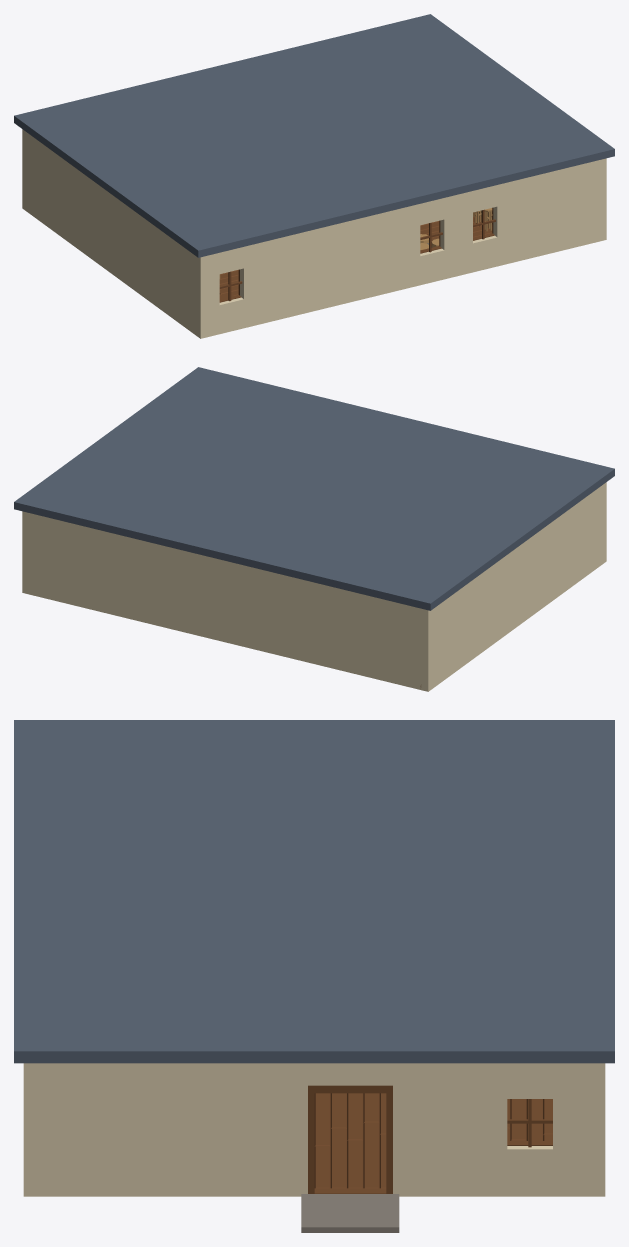
The model's file is tavern_interior.glb.
3 views of the same model, one above another, from view 1: azimuth 30°, elevation 25°; view 2: azimuth 150°, elevation 25°; view 3: azimuth 270°, elevation 25° (orthographic). The views are drawn at different scales.
Parts seen in each view (by area): view 1: Roof_ShadowOnly, Wall_PosZ, Wall_NegX_ShadowOnly, WallStub_NegX, Floor; view 2: Roof_ShadowOnly, Wall_NegZ_ShadowOnly, Wall_NegX_ShadowOnly, WallStub_NegZ, WallStub_NegX, Wall_PosX; view 3: Roof_ShadowOnly, Wall_PosX, Floor, DoorStep, Doorway, Wall_PosZ.
Boxes of the visible parts, x1=… form: Roof_ShadowOnly: x1=14, y1=14, x2=614, y2=257; Wall_PosZ: x1=196, y1=158, x2=606, y2=338; Wall_NegX_ShadowOnly: x1=22, y1=129, x2=196, y2=335; WallStub_NegX: x1=22, y1=204, x2=196, y2=334; Floor: x1=219, y1=212, x2=492, y2=295; Roof_ShadowOnly: x1=14, y1=367, x2=614, y2=610; Wall_NegZ_ShadowOnly: x1=29, y1=513, x2=421, y2=689; Wall_NegX_ShadowOnly: x1=421, y1=485, x2=602, y2=691; WallStub_NegZ: x1=29, y1=584, x2=421, y2=689; WallStub_NegX: x1=420, y1=555, x2=602, y2=691; Wall_PosX: x1=22, y1=511, x2=28, y2=594; Roof_ShadowOnly: x1=14, y1=720, x2=614, y2=1063; Wall_PosX: x1=37, y1=1063, x2=605, y2=1196; Floor: x1=314, y1=1093, x2=552, y2=1188; DoorStep: x1=301, y1=1194, x2=399, y2=1232; Doorway: x1=308, y1=1085, x2=392, y2=1193; Wall_PosZ: x1=23, y1=1063, x2=36, y2=1196.
Size of the model in its own units: 26.1 by 5.15 by 18.4.
